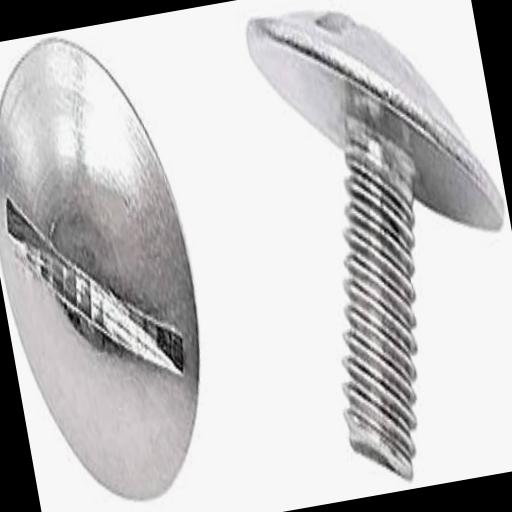Slotted: (0, 17, 231, 512)
